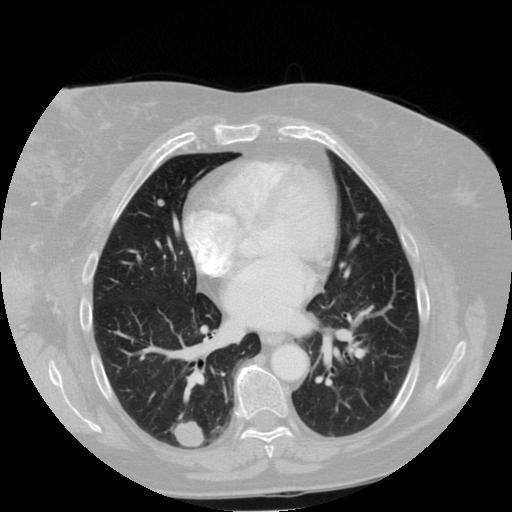nodule: (154, 196, 167, 209)
